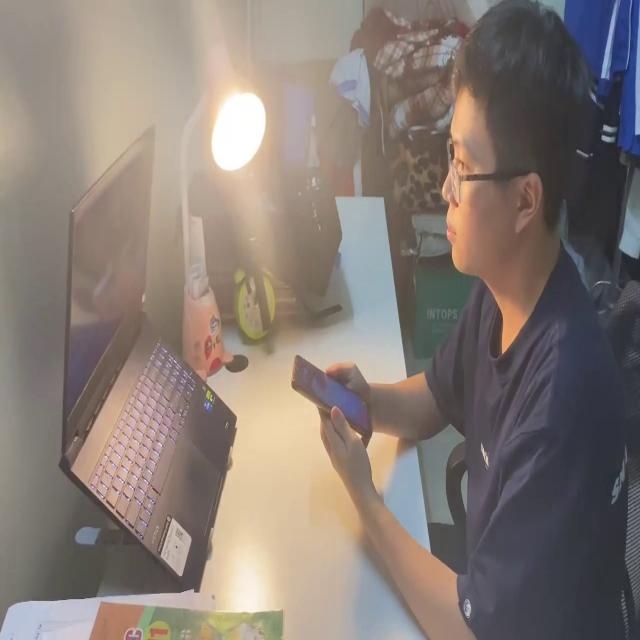book: (0, 587, 289, 640)
laptop: (54, 118, 237, 588)
phone: (288, 348, 372, 446)
student: (314, 0, 640, 640)
